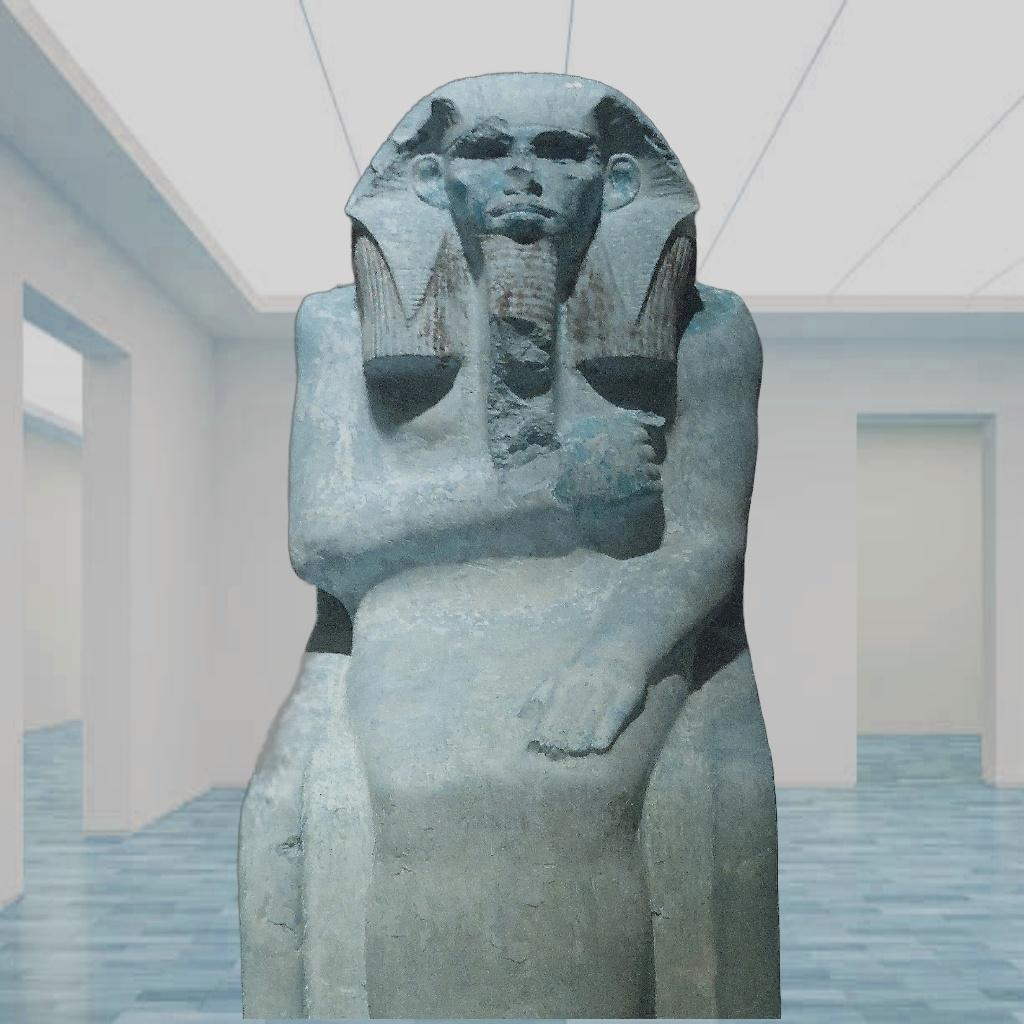Seated Statue of Djoser: (232, 67, 790, 1019)
